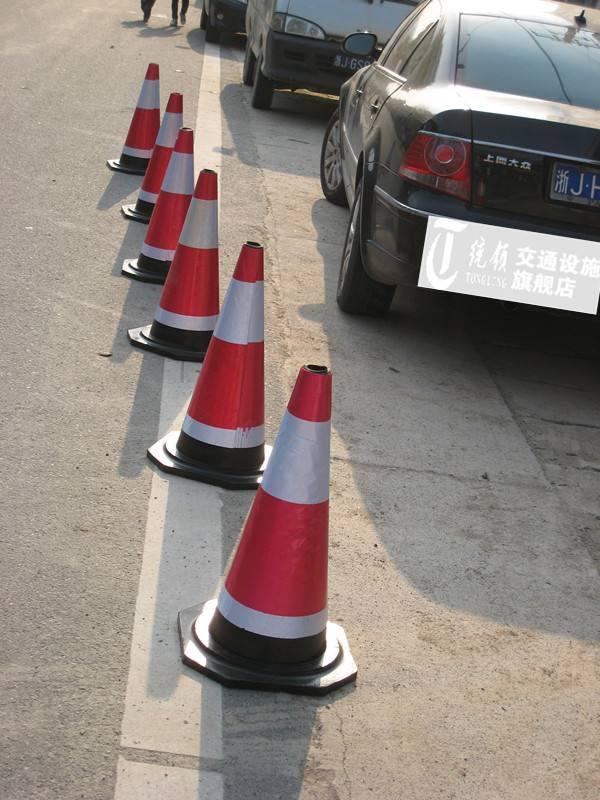sign: (202, 357, 392, 717), (168, 243, 272, 497), (149, 171, 225, 354)
